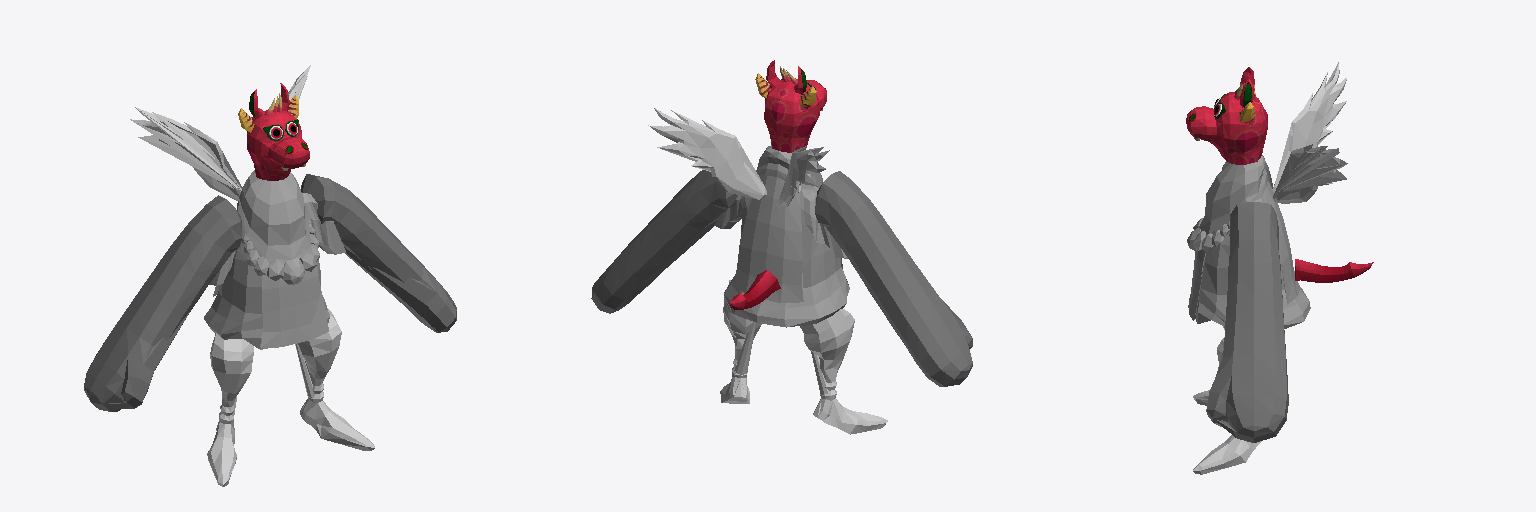
3 renders of one model, left to right at view 1: azimuth 30°, elevation 25°; view 2: azimuth 150°, elevation 25°; view 3: azimuth 270°, elevation 25°, orthographic.
Visible parts, largest first — view 1: body-7_babamon.blend.obj.001_body-7_babamon.blend_nifid_74-matri; view 2: body-7_babamon.blend.obj.001_body-7_babamon.blend_nifid_74-matri; view 3: body-7_babamon.blend.obj.001_body-7_babamon.blend_nifid_74-matri.
Part boxes in pixels (x1,y1,x2,y2): body-7_babamon.blend.obj.001_body-7_babamon.blend_nifid_74-matri: (84, 65, 456, 486); body-7_babamon.blend.obj.001_body-7_babamon.blend_nifid_74-matri: (591, 60, 972, 434); body-7_babamon.blend.obj.001_body-7_babamon.blend_nifid_74-matri: (1186, 62, 1373, 474).
Bounding box in the file's own units: 5.15 × 4.87 × 2.28.
Materials: 8 (2 with a texture image).